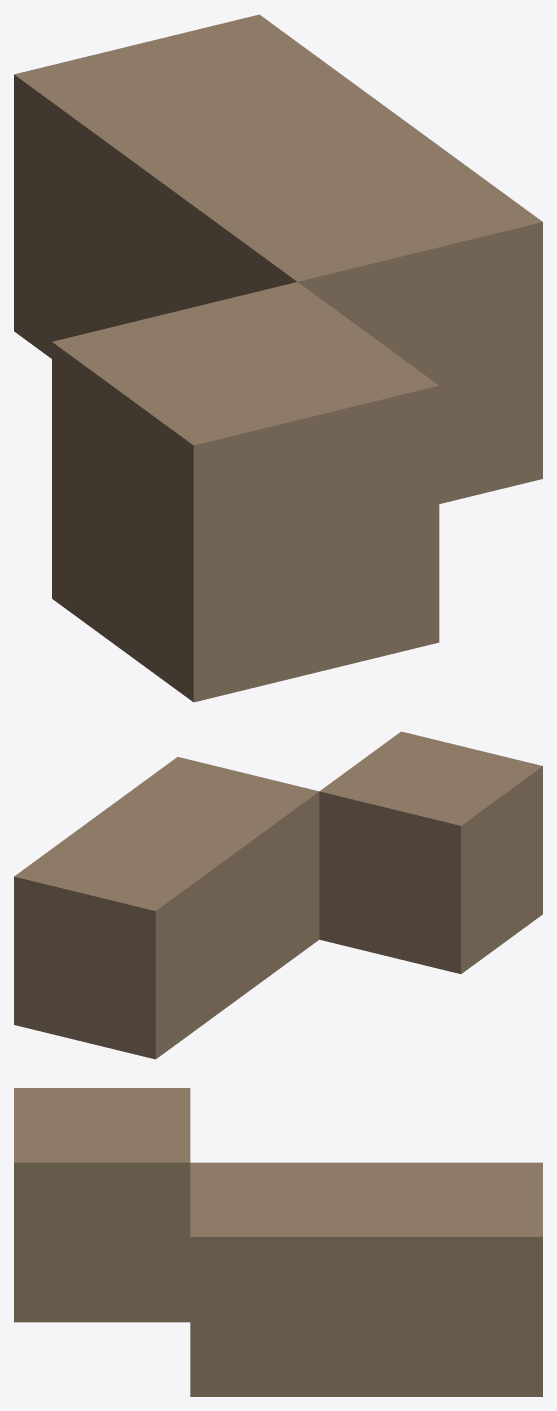
File: can_big-1.fbx
3 renders of one model, top to bottom at view 1: azimuth 30°, elevation 25°; view 2: azimuth 150°, elevation 25°; view 3: azimuth 270°, elevation 25°, orthographic. The views are drawn at different scales.
Parts seen in each view (by area): view 1: can_big-1.001; view 2: can_big-1.001; view 3: can_big-1.001.
Boxes of the visible parts, bbox=[...] form: can_big-1.001: bbox=[14, 14, 542, 702]; can_big-1.001: bbox=[14, 731, 542, 1059]; can_big-1.001: bbox=[14, 1088, 542, 1396].
Bounding box in the file's own units: 0.2 × 0.1 × 0.3.
Materials: 1 (1 with a texture image).
